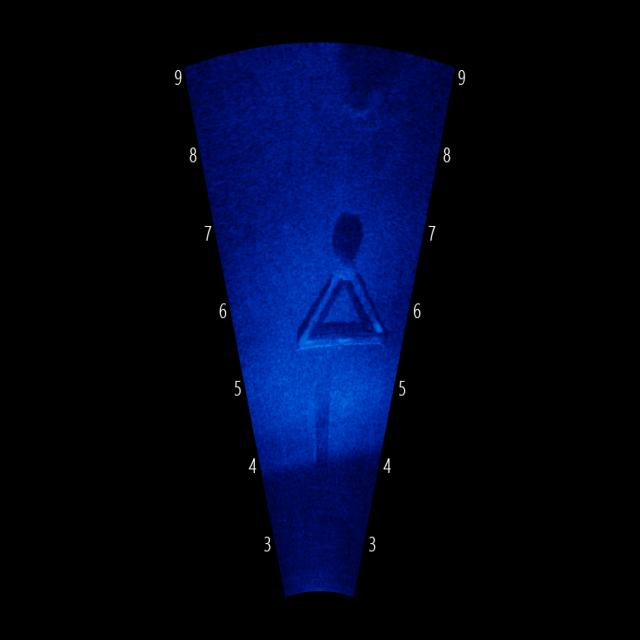triangle: (286, 236, 396, 368)
